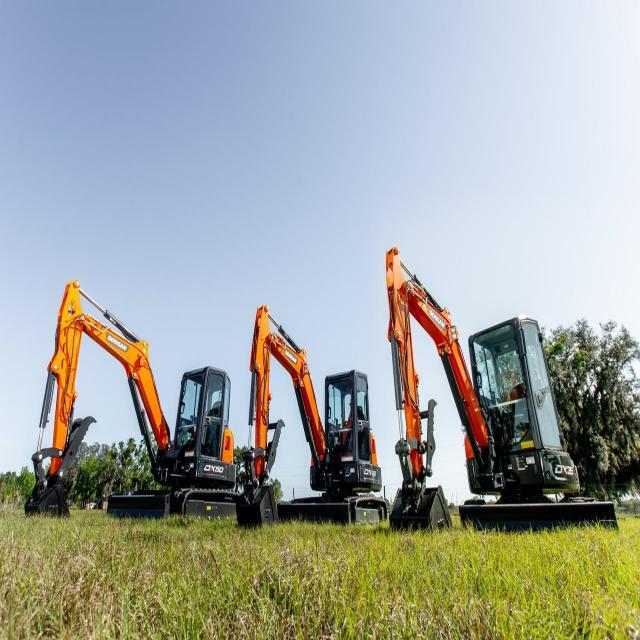C_E: (385, 239, 623, 538)
